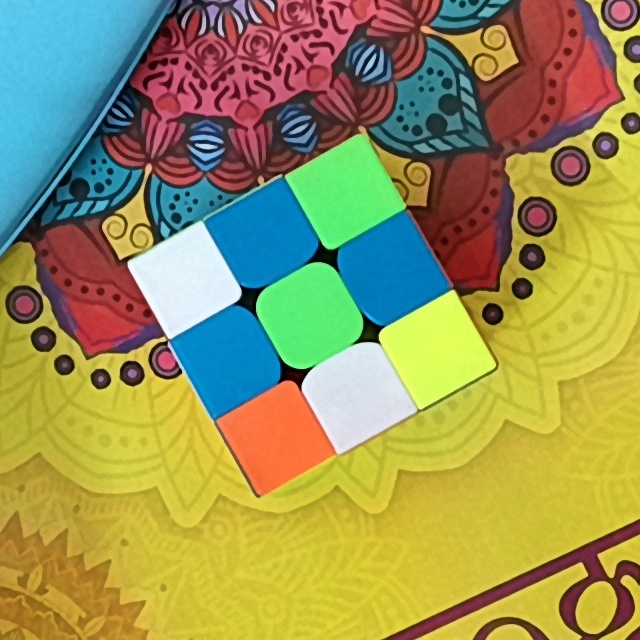tile: (364, 238, 424, 305), (196, 328, 259, 391), (323, 364, 390, 423), (280, 281, 339, 348), (233, 209, 295, 271), (313, 164, 376, 224), (408, 319, 470, 379), (248, 406, 307, 465), (153, 253, 211, 312)
